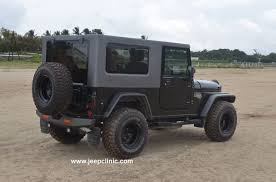Vehicle: (32, 30, 241, 158)
